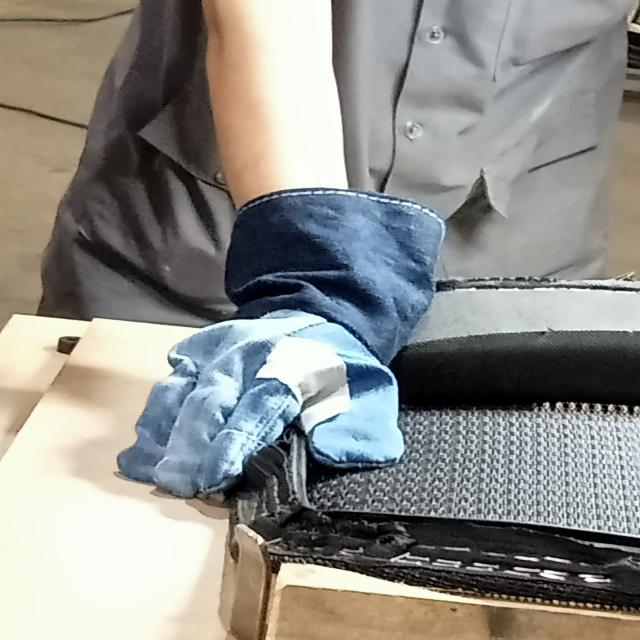Gloves-Detection: (124, 200, 426, 492)
